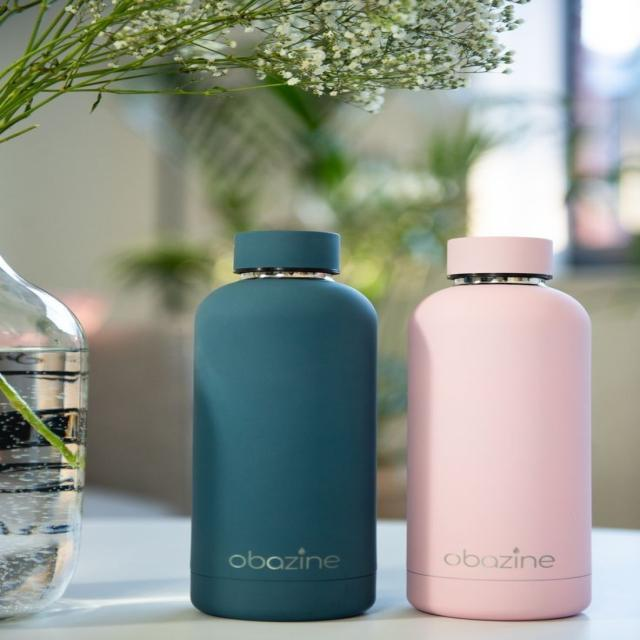bottle: (205, 195, 613, 640)
